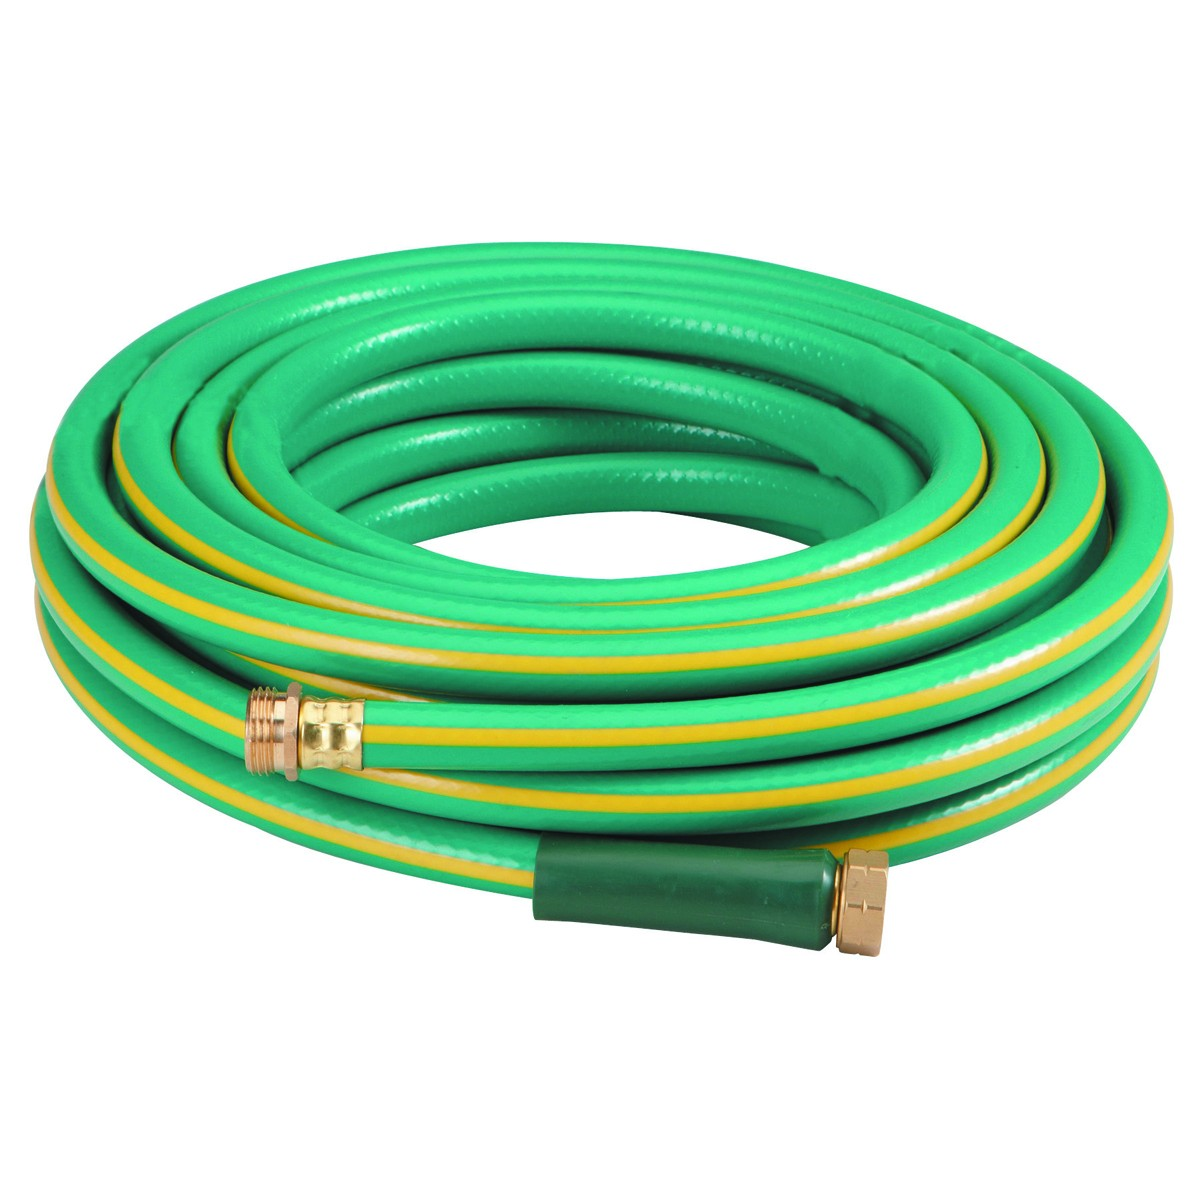Nonrec_Tangler: (4, 205, 1180, 1045)
